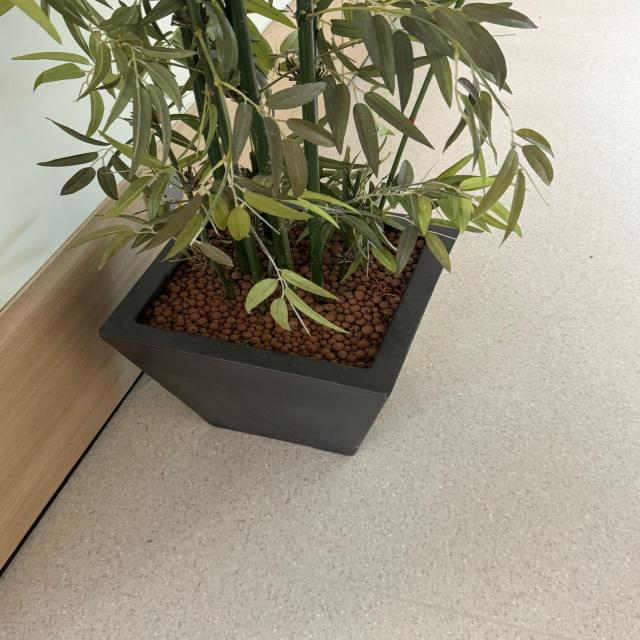Pot: (97, 187, 462, 457)
